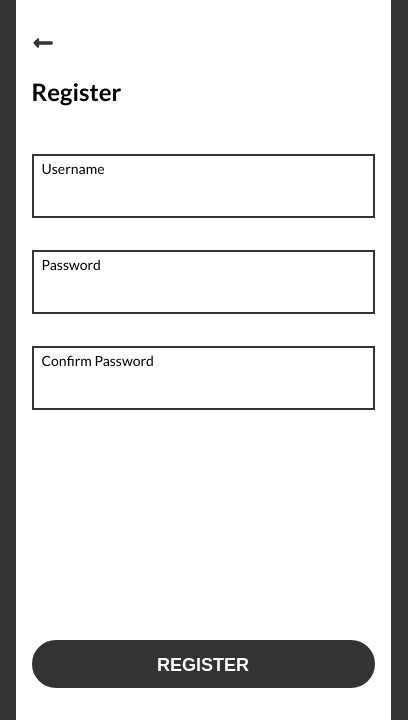
it: fields validation › password field empty only
Type "kevintest" into the field labelled "Username" at [203, 192], box [42,176,364,208]
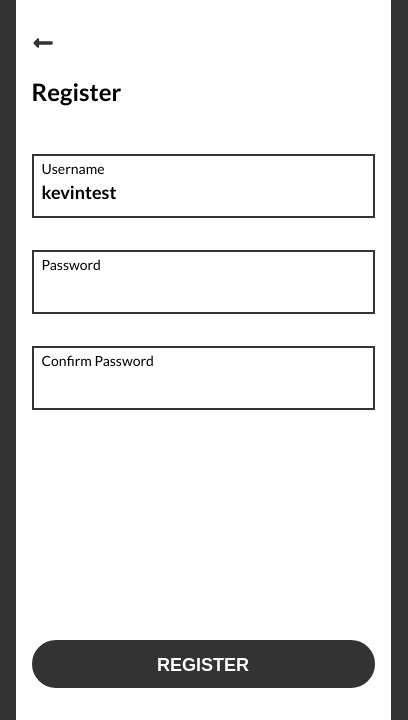
Type "asdasd" into the password field labelled "Confirm Password" at [203, 384], box [42,368,364,400]
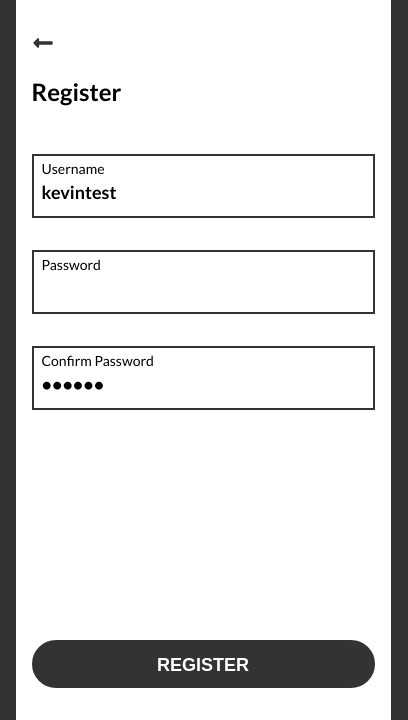
Click the button "REGISTER" at [203, 664], box [32,640,374,688]
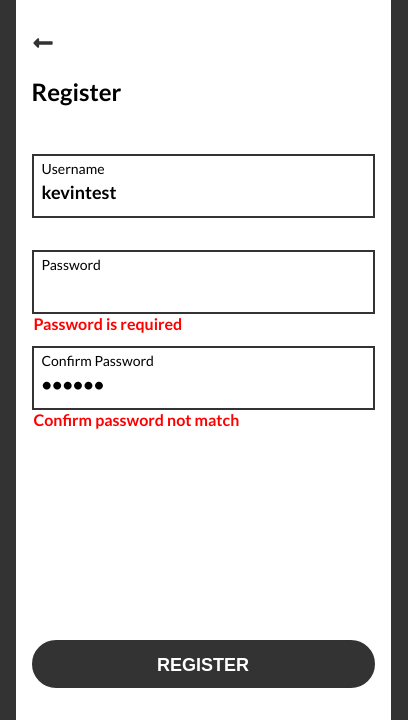
Check: the messages read "Password is required", "Confirm password not match", in this order, box [34,314,182,333]; [34,410,239,429]
